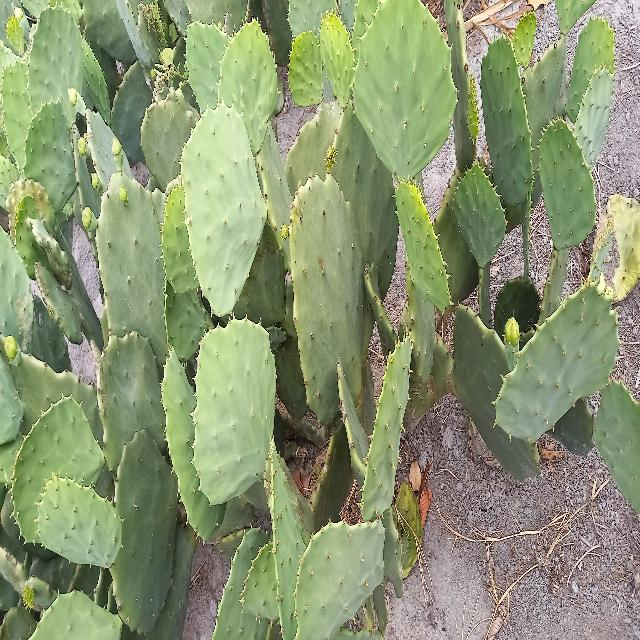adequadas para corte: (0, 0, 200, 317), (449, 169, 602, 360), (191, 0, 312, 204), (120, 271, 204, 531), (479, 132, 640, 257), (314, 65, 442, 213), (368, 0, 429, 229), (415, 0, 528, 120), (214, 195, 331, 293)
inadequadas para corte: (497, 377, 640, 640), (0, 450, 169, 638), (0, 232, 113, 463), (260, 89, 343, 224), (532, 0, 640, 103), (510, 61, 577, 143)
